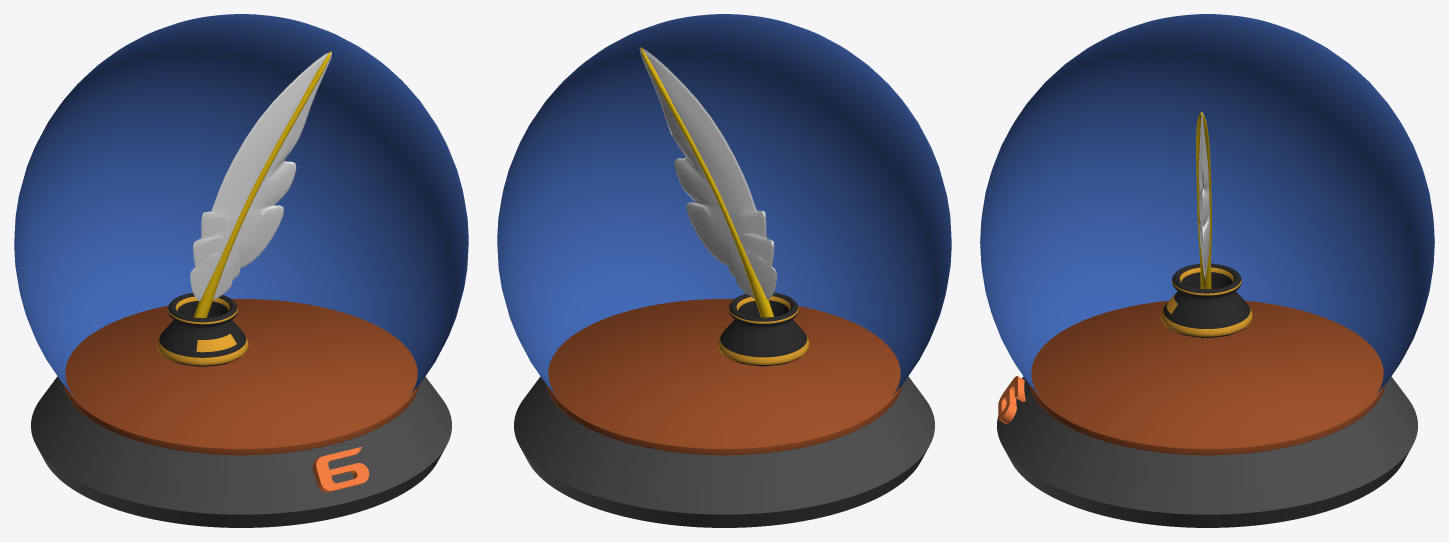
File: Curio_06.glb
3 renders of one model, left to right at view 1: azimuth 30°, elevation 25°; view 2: azimuth 150°, elevation 25°; view 3: azimuth 270°, elevation 25°, orthographic.
Parts seen in each view (by area): view 1: Sphere.023, Sphere.022, Sphere.021, Plane.003, Text.011; view 2: Sphere.023, Sphere.022, Sphere.021, Plane.003; view 3: Sphere.023, Sphere.022, Sphere.021, Plane.003, Text.011.
Part boxes in pixels (x1,y1,x2,y2): Sphere.023: [14, 14, 468, 397]; Sphere.022: [63, 299, 419, 455]; Sphere.021: [31, 376, 451, 527]; Plane.003: [157, 51, 331, 366]; Text.011: [312, 447, 369, 492]; Sphere.023: [497, 14, 951, 397]; Sphere.022: [546, 299, 902, 455]; Sphere.021: [514, 376, 934, 527]; Plane.003: [639, 47, 809, 366]; Sphere.023: [980, 14, 1434, 395]; Sphere.022: [1029, 300, 1385, 455]; Sphere.021: [997, 376, 1417, 527]; Plane.003: [1161, 112, 1252, 337]; Text.011: [998, 376, 1025, 424].
Size of the model in its own units: 4.66 by 4.62 by 4.66.
